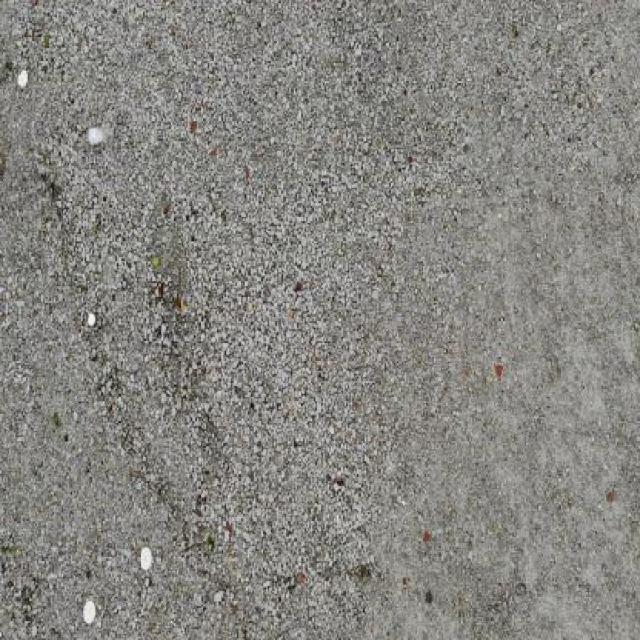Garbage: (86, 126, 116, 148), (86, 314, 102, 332)
